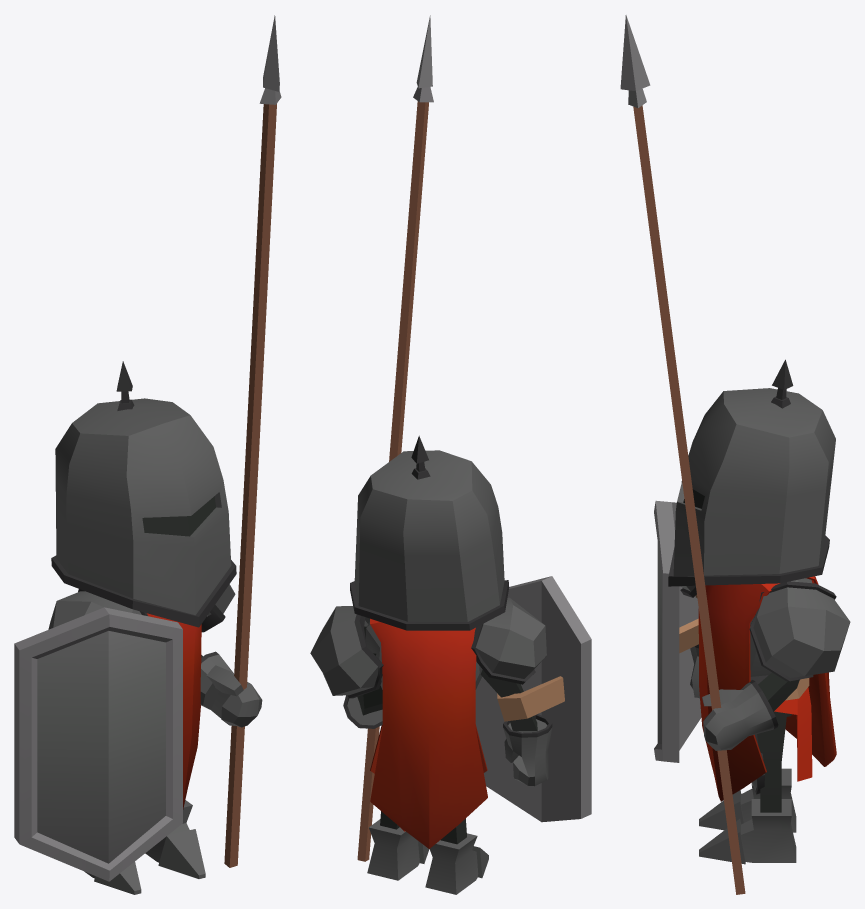
Rendered from Warrior_6.fbx.
3 views of the same model, side by side, from view 1: azimuth 30°, elevation 25°; view 2: azimuth 150°, elevation 25°; view 3: azimuth 270°, elevation 25° (orthographic). The views are drawn at different scales.
Visible parts, largest first — view 1: Warrior_6; view 2: Warrior_6; view 3: Warrior_6.
Boxes of the visible parts, bbox=[...] form: Warrior_6: bbox=[14, 15, 281, 894]; Warrior_6: bbox=[310, 15, 591, 894]; Warrior_6: bbox=[620, 15, 850, 894].
Bounding box in the file's own units: 71.67 × 243 × 58.14.
